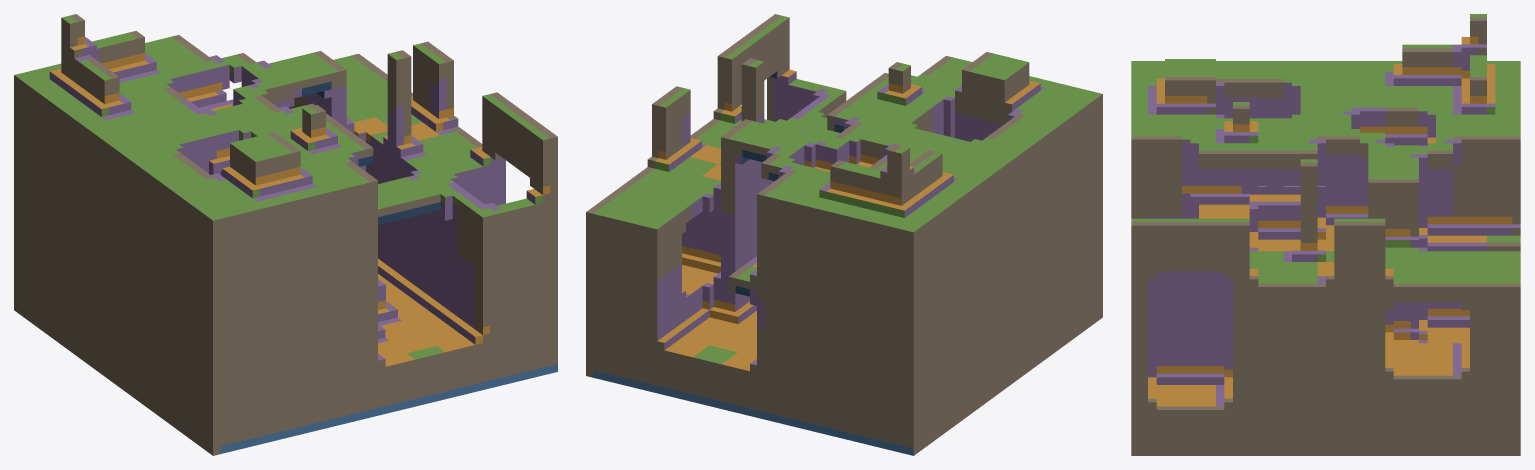
The model's file is paysage_ao.glb.
3 views of the same model, side by side, from view 1: azimuth 30°, elevation 25°; view 2: azimuth 150°, elevation 25°; view 3: azimuth 270°, elevation 25° (orthographic). The views are drawn at different scales.
Parts seen in each view (by area): view 1: MasterBlock; view 2: MasterBlock; view 3: MasterBlock.
Part boxes in pixels (box(x1,y1,x2,y2)): MasterBlock: box(14, 14, 557, 455); MasterBlock: box(586, 14, 1102, 455); MasterBlock: box(1131, 14, 1520, 455).
Bounding box in the file's own units: 11.5 × 9.5 × 11.5.
